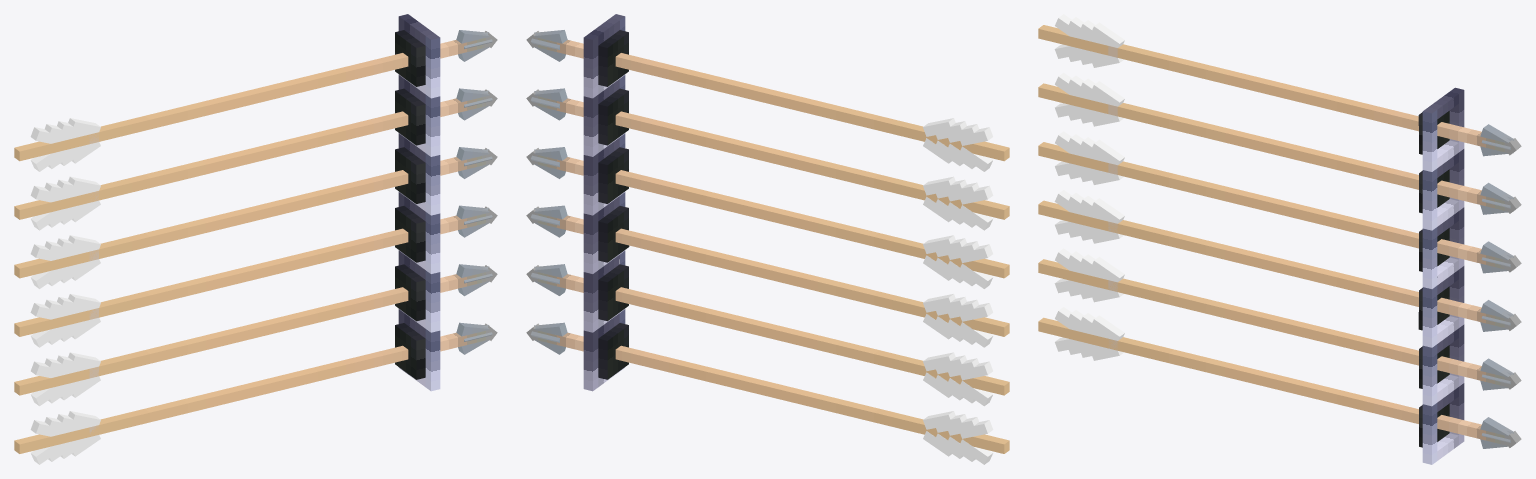
File: trap-3.glb
3 renders of one model, left to right at view 1: azimuth 30°, elevation 25°; view 2: azimuth 150°, elevation 25°; view 3: azimuth 330°, elevation 25°, orthographic.
Parts seen in each view (by area): view 1: 2$$(1)-Local; view 2: 2$$(1)-Local; view 3: 2$$(1)-Local.
Boxes of the visible parts, <box> form: 2$$(1)-Local: <box>14,14,497,464</box>; 2$$(1)-Local: <box>526,14,1009,464</box>; 2$$(1)-Local: <box>1038,14,1521,464</box>.
Bounding box in the file's own units: 8.54 × 6 × 1.
6 materials, 6 textured.
